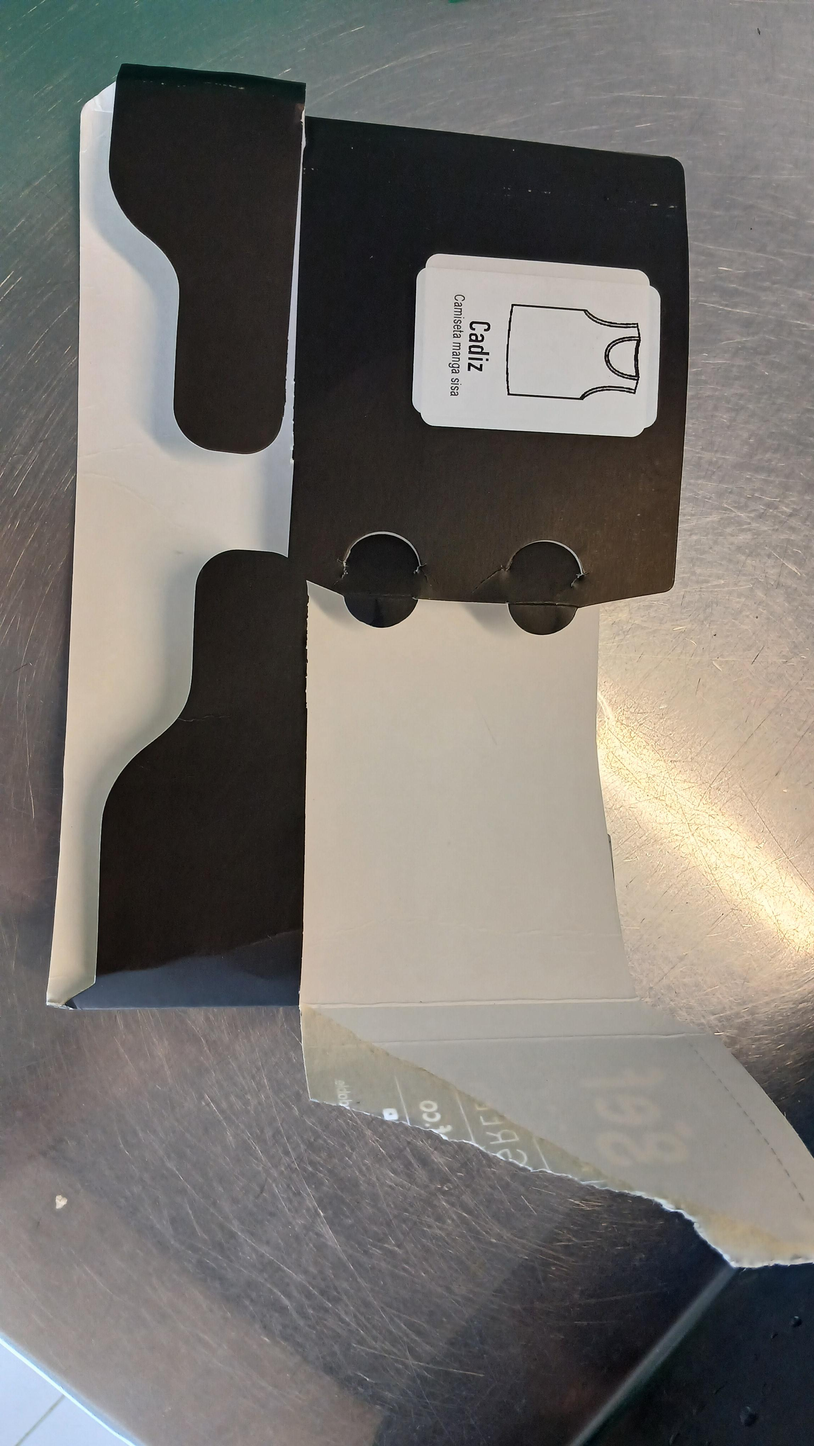Papel: (42, 65, 814, 1267)
